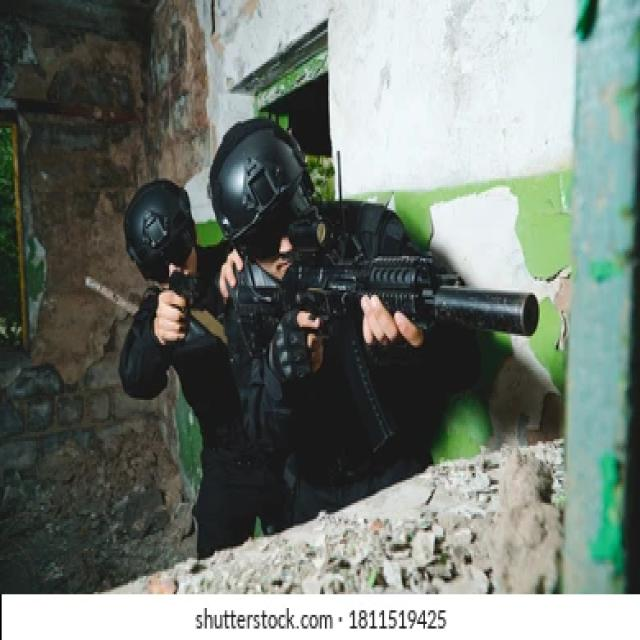soldier: (209, 126, 539, 474)
